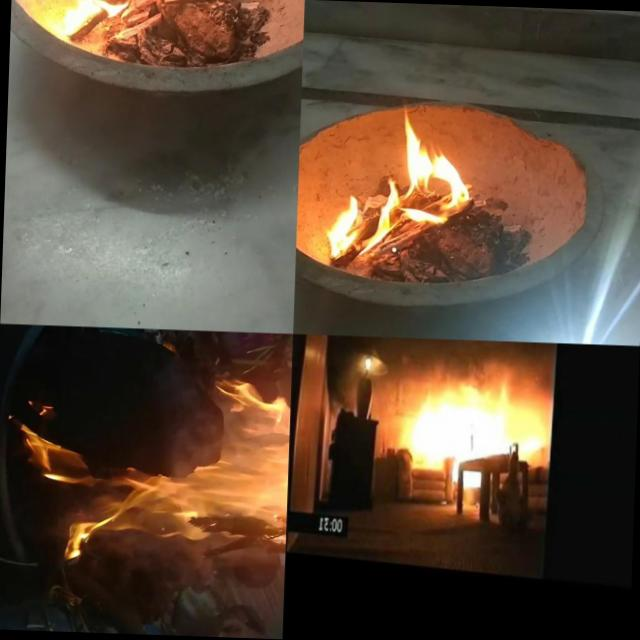fire: (321, 124, 476, 271), (403, 388, 543, 480), (56, 0, 219, 49)
